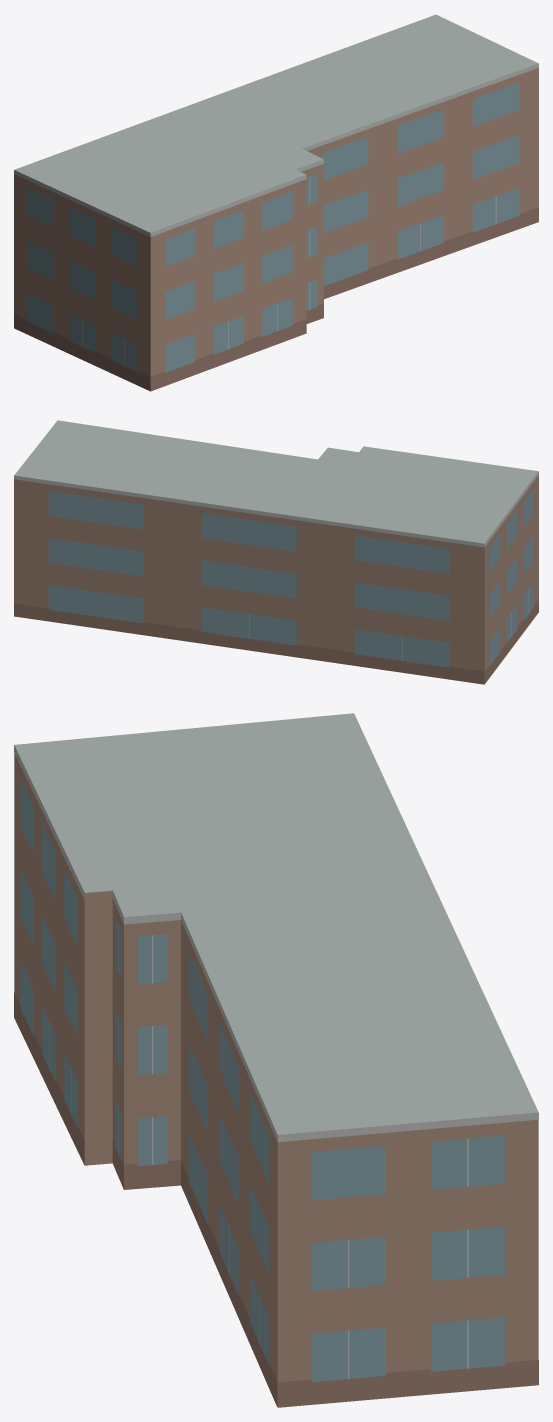
The model's file is survey-upis-33030595.glb.
3 renders of one model, top to bottom at view 1: azimuth 30°, elevation 25°; view 2: azimuth 150°, elevation 25°; view 3: azimuth 270°, elevation 25°, orthographic. The views are drawn at different scales.
Parts seen in each view (by area): view 1: survey-upis-33030595.tmp; view 2: survey-upis-33030595.tmp; view 3: survey-upis-33030595.tmp.
Boxes of the visible parts, bbox=[...] form: survey-upis-33030595.tmp: bbox=[14, 14, 538, 391]; survey-upis-33030595.tmp: bbox=[14, 420, 538, 684]; survey-upis-33030595.tmp: bbox=[14, 713, 538, 1407].
Size of the model in its own units: 30.37 by 9.15 by 15.97.
